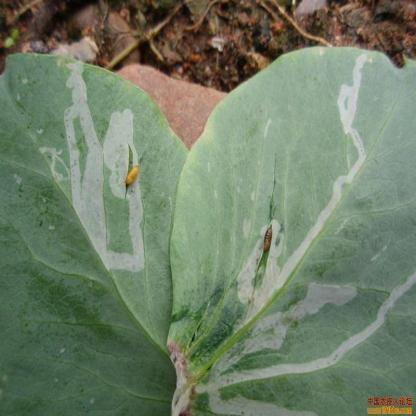whorl-maggot: (122, 158, 141, 194), (260, 222, 278, 260)
